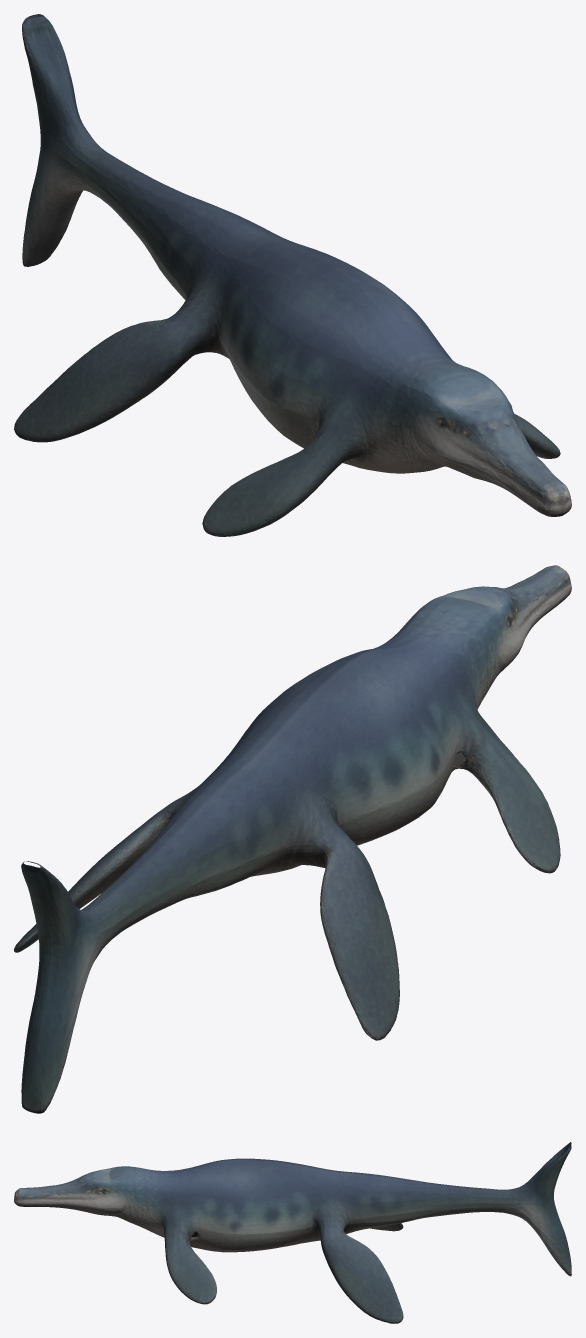
3 renders of one model, top to bottom at view 1: azimuth 30°, elevation 25°; view 2: azimuth 150°, elevation 25°; view 3: azimuth 270°, elevation 25°, orthographic. The views are drawn at different scales.
Parts seen in each view (by area): view 1: world; view 2: world; view 3: world.
Part boxes in pixels (<box>): world: <box>14,14,571,536</box>; world: <box>14,565,571,1113</box>; world: <box>14,1142,571,1323</box>.
Bounding box in the file's own units: 0.3997 × 0.2655 × 1.
1 material, 1 textured.
